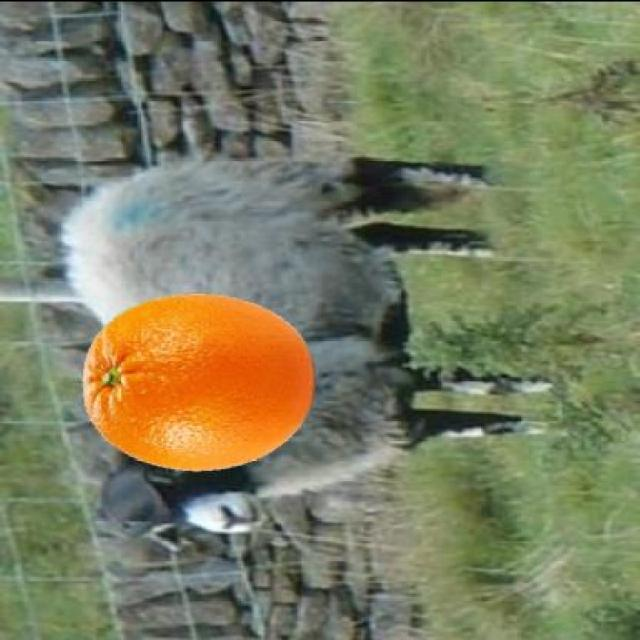Orange: (80, 291, 315, 472)
